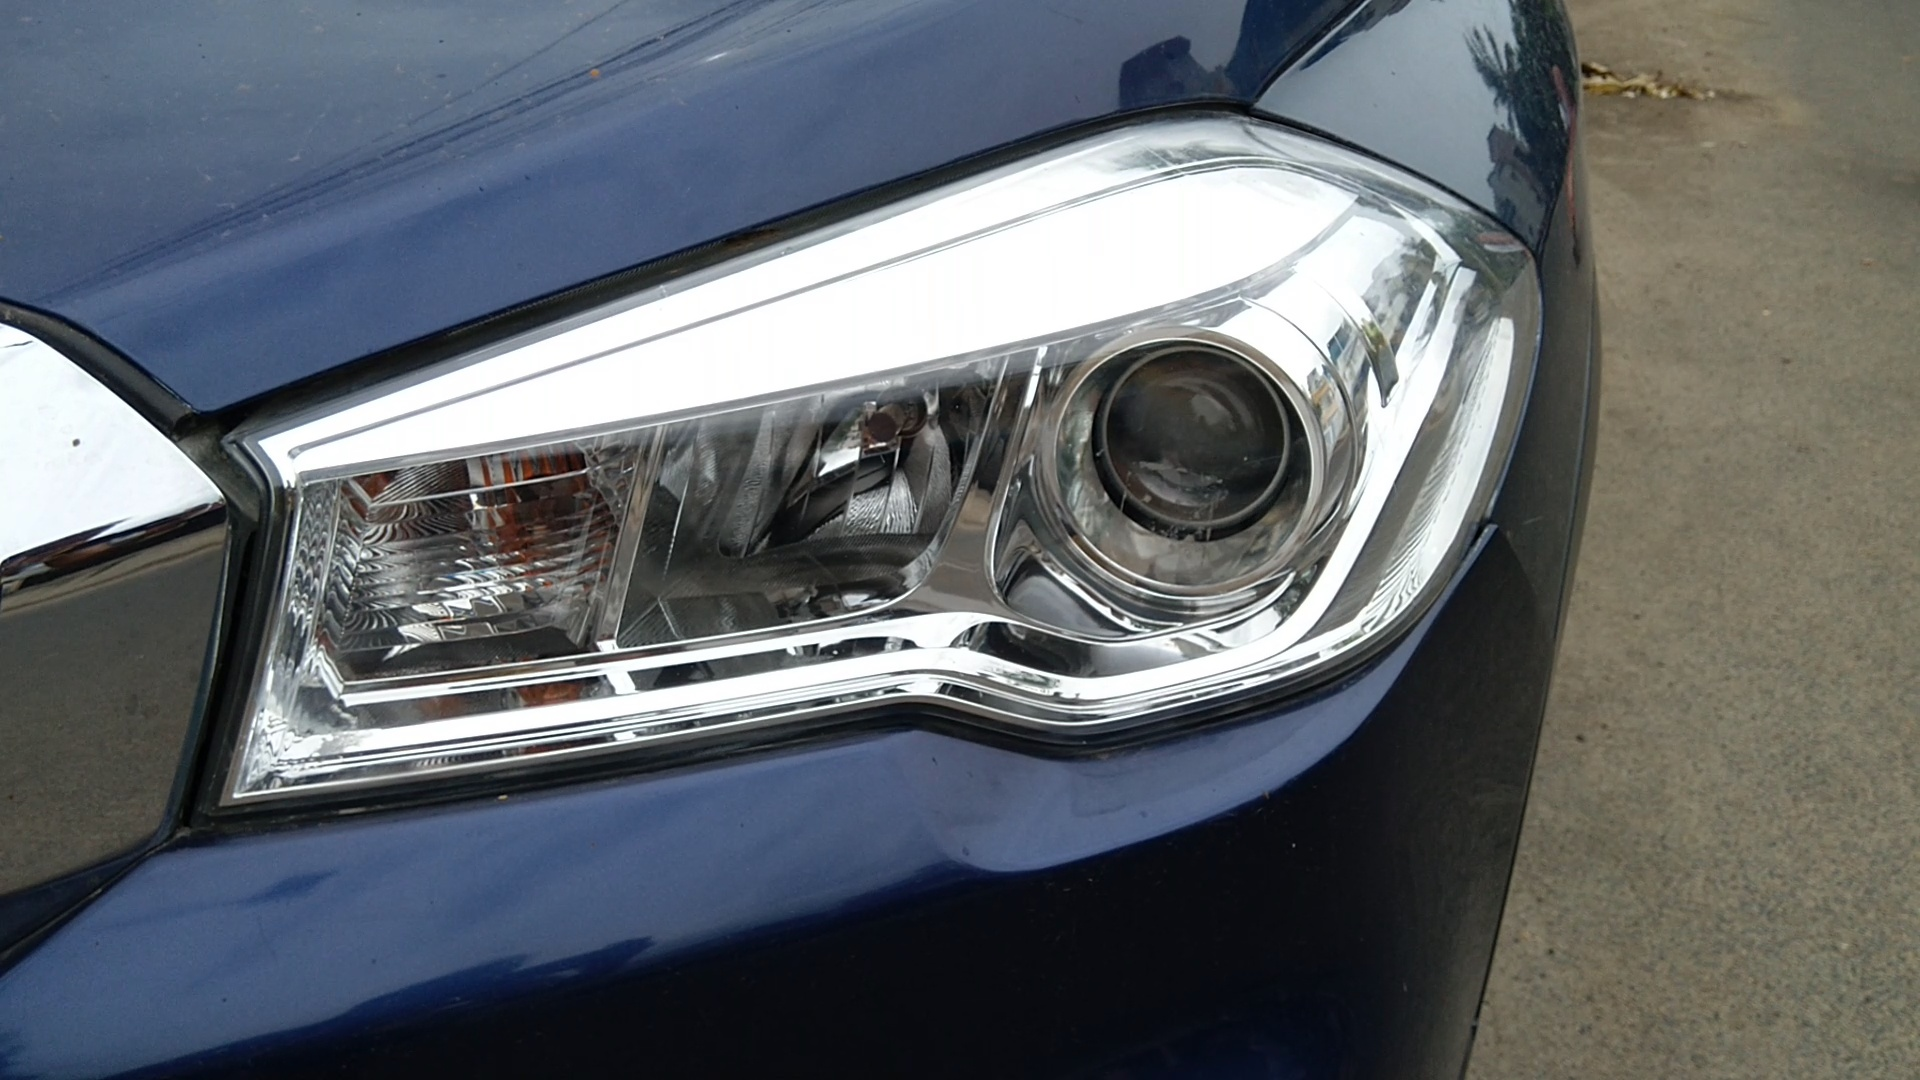headlamp: (124, 62, 1559, 949)
